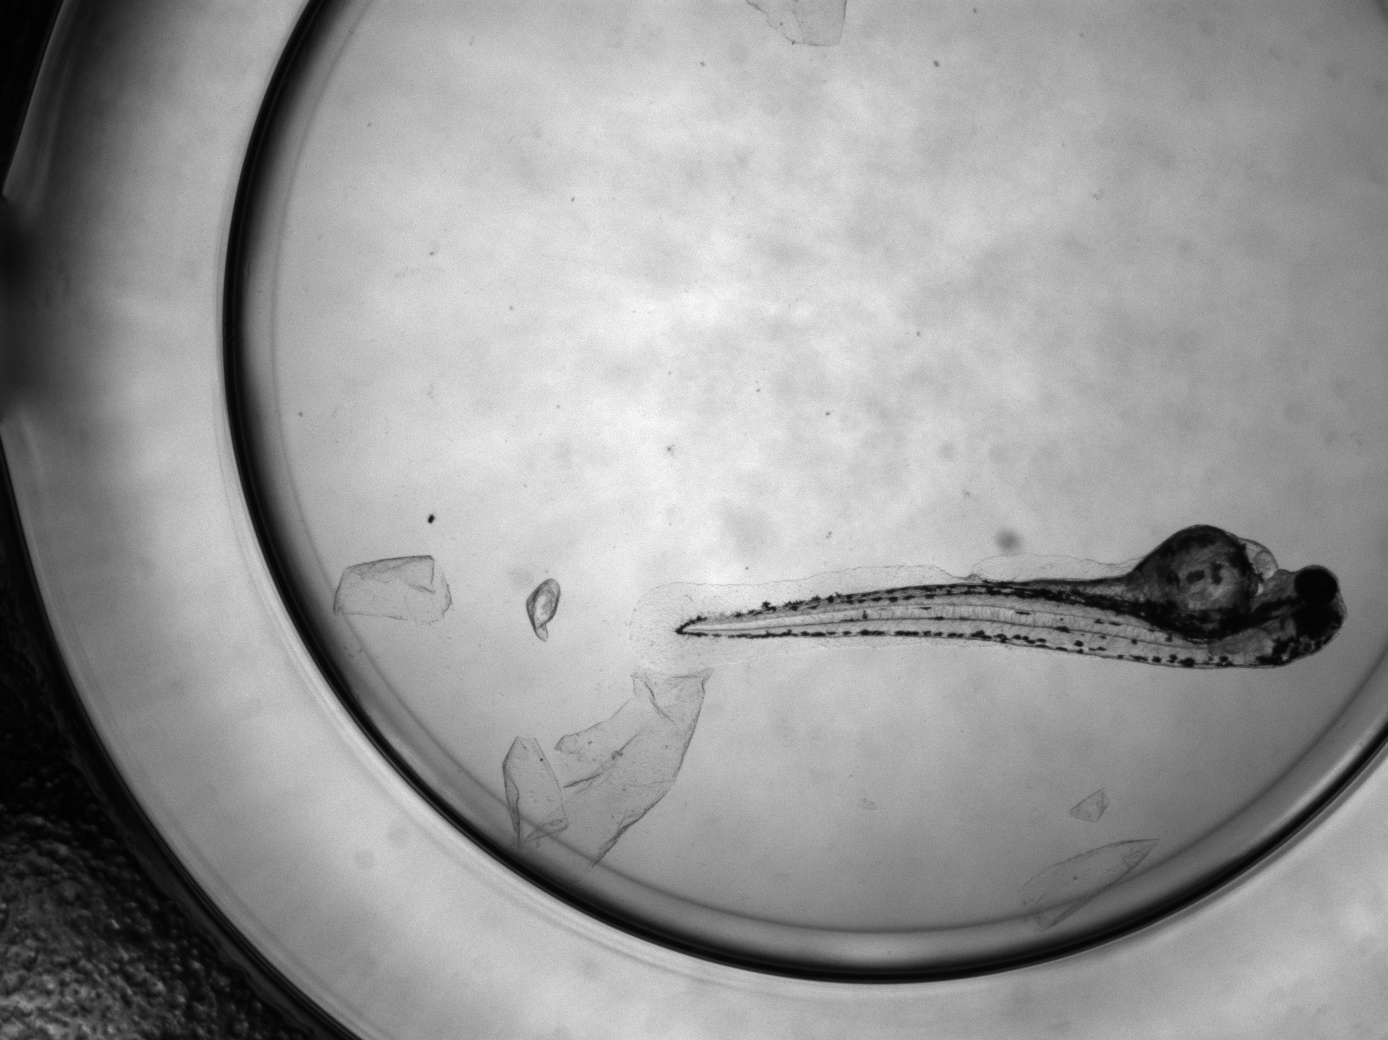debris: (501, 670, 708, 867), (1020, 837, 1159, 932), (330, 555, 453, 624), (526, 577, 561, 641), (1067, 785, 1110, 825)
embryo: (673, 523, 1349, 669)
eye: (1294, 568, 1337, 604), (1291, 604, 1334, 639)
yolksac: (1130, 524, 1258, 642)
